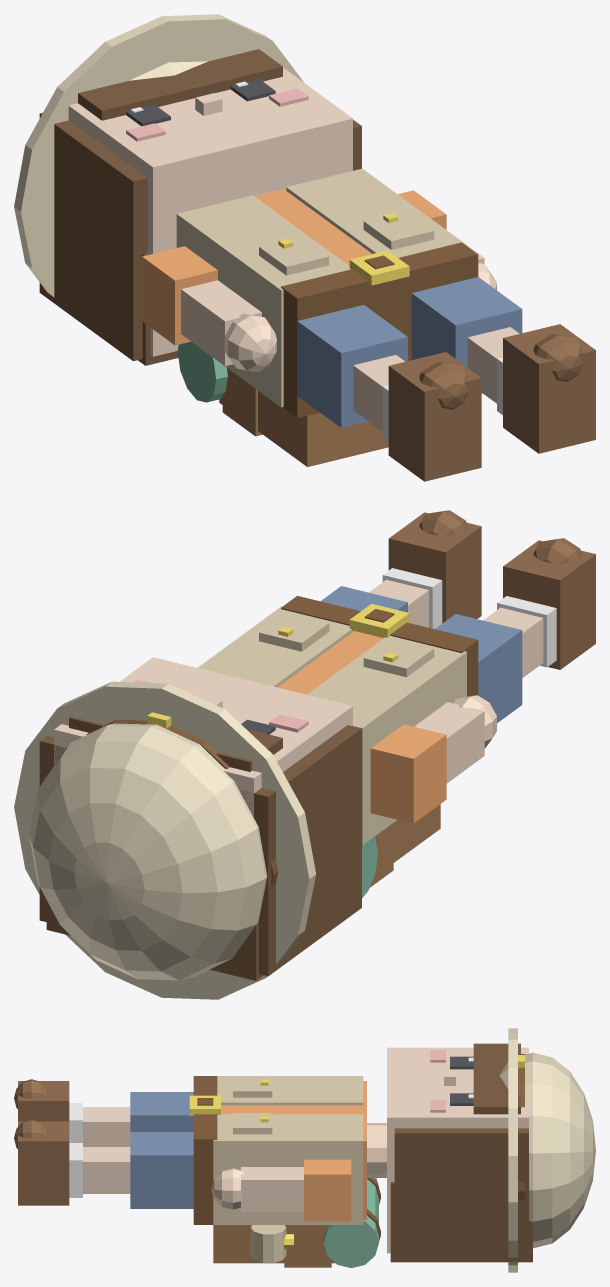
File: PlayerExplorer.fbx
3 renders of one model, top to bottom at view 1: azimuth 30°, elevation 25°; view 2: azimuth 150°, elevation 25°; view 3: azimuth 270°, elevation 25°, orthographic. The views are drawn at different scales.
Visible parts, largest first — view 1: Player_Head, Player_Torso, Player_Leg_L, Player_Leg_R, Player_Arm_L, Player_Backpack, Player_Arm_R; view 2: Player_Head, Player_Torso, Player_Leg_L, Player_Leg_R, Player_Arm_L, Player_Backpack; view 3: Player_Head, Player_Torso, Player_Leg_R, Player_Backpack, Player_Leg_L, Player_Arm_R.
Part boxes in pixels (x1,y1,x2,y2): Player_Head: [14, 14, 361, 365]; Player_Torso: [176, 168, 478, 417]; Player_Leg_L: [297, 305, 481, 481]; Player_Leg_R: [411, 277, 595, 453]; Player_Arm_L: [142, 246, 276, 372]; Player_Backpack: [177, 341, 388, 466]; Player_Arm_R: [398, 190, 496, 289]; Player_Head: [14, 657, 361, 999]; Player_Torso: [197, 596, 478, 845]; Player_Leg_L: [435, 538, 595, 722]; Player_Leg_R: [321, 510, 481, 628]; Player_Arm_L: [370, 695, 496, 823]; Player_Backpack: [362, 804, 440, 898]; Player_Head: [387, 1028, 595, 1272]; Player_Torso: [189, 1076, 386, 1224]; Player_Leg_R: [14, 1119, 193, 1208]; Player_Backpack: [213, 1178, 380, 1268]; Player_Leg_L: [14, 1079, 193, 1146]; Player_Arm_R: [211, 1159, 351, 1221].
Size of the model in its own units: 0.62 by 0.62 by 1.48.
